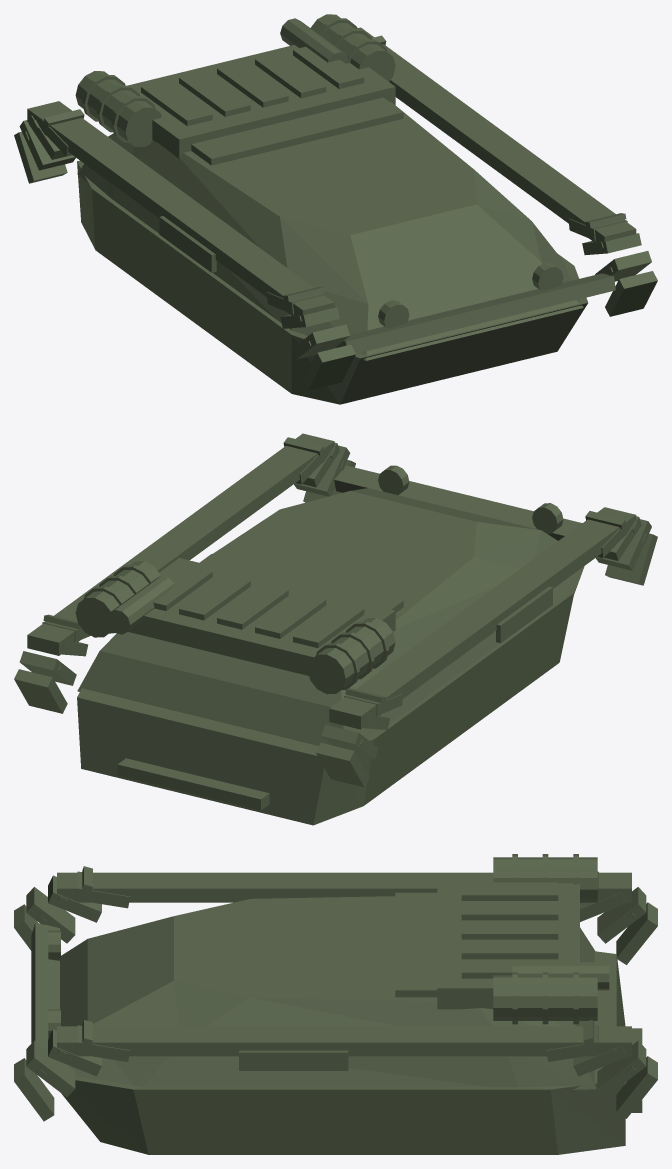
File: light_tank_hull.obj
The picture shows the model from 3 angles, top to bottom: view 1: azimuth 30°, elevation 25°; view 2: azimuth 150°, elevation 25°; view 3: azimuth 270°, elevation 25°; orthographic projection. The views are drawn at different scales.
Visible parts, largest first — view 1: light_tank_hull; view 2: light_tank_hull; view 3: light_tank_hull.
Part boxes in pixels (bbox=[...]): light_tank_hull: bbox=[14, 14, 657, 404]; light_tank_hull: bbox=[14, 433, 657, 825]; light_tank_hull: bbox=[14, 854, 657, 1154].
Size of the model in its own units: 2.59 by 1.19 by 4.05.
